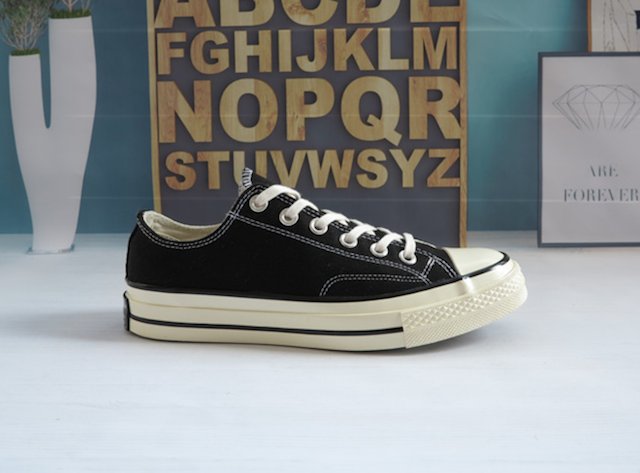shoes: (117, 167, 537, 371)
